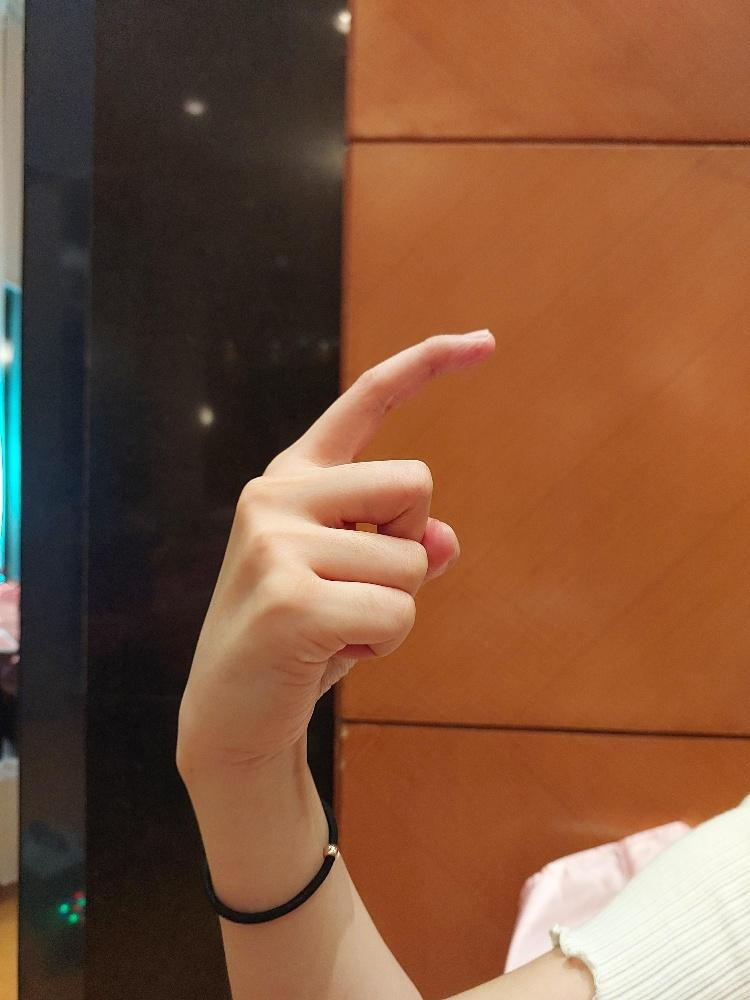x: (184, 323, 496, 768)
